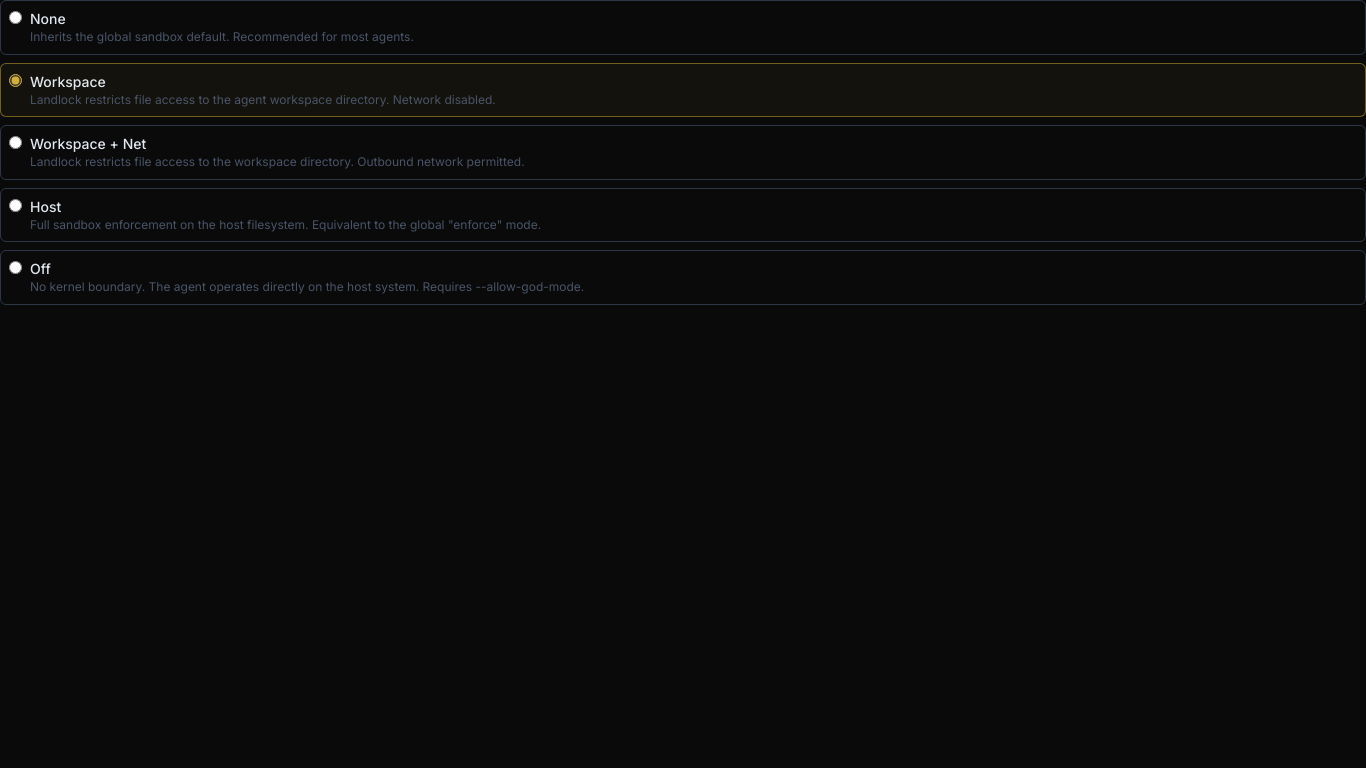
SandboxProfileSelector › cancel restores previously-selected radio state
The image size is (1366, 768).
Note: Open the confirmation dialog by clicking "off".
Click the radio button with aria-label "Sandbox profile: Off".
click(16, 268)  # box [9,261,22,274]
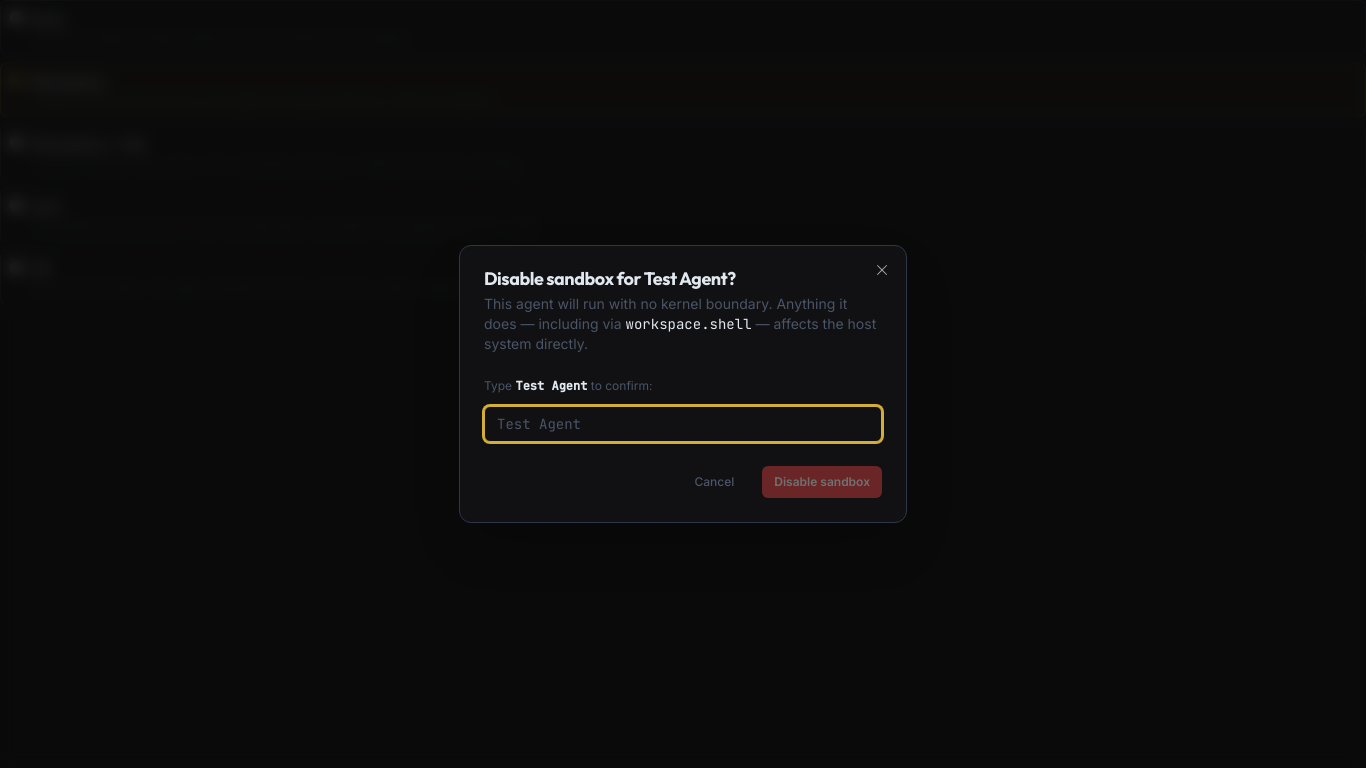
Now the heading "Disable sandbox for Test Agent?" is shown, box [484,267,736,290]
Note: Cancel the dialog.
Click the button "Cancel".
click(714, 482)  # box [682,466,746,498]
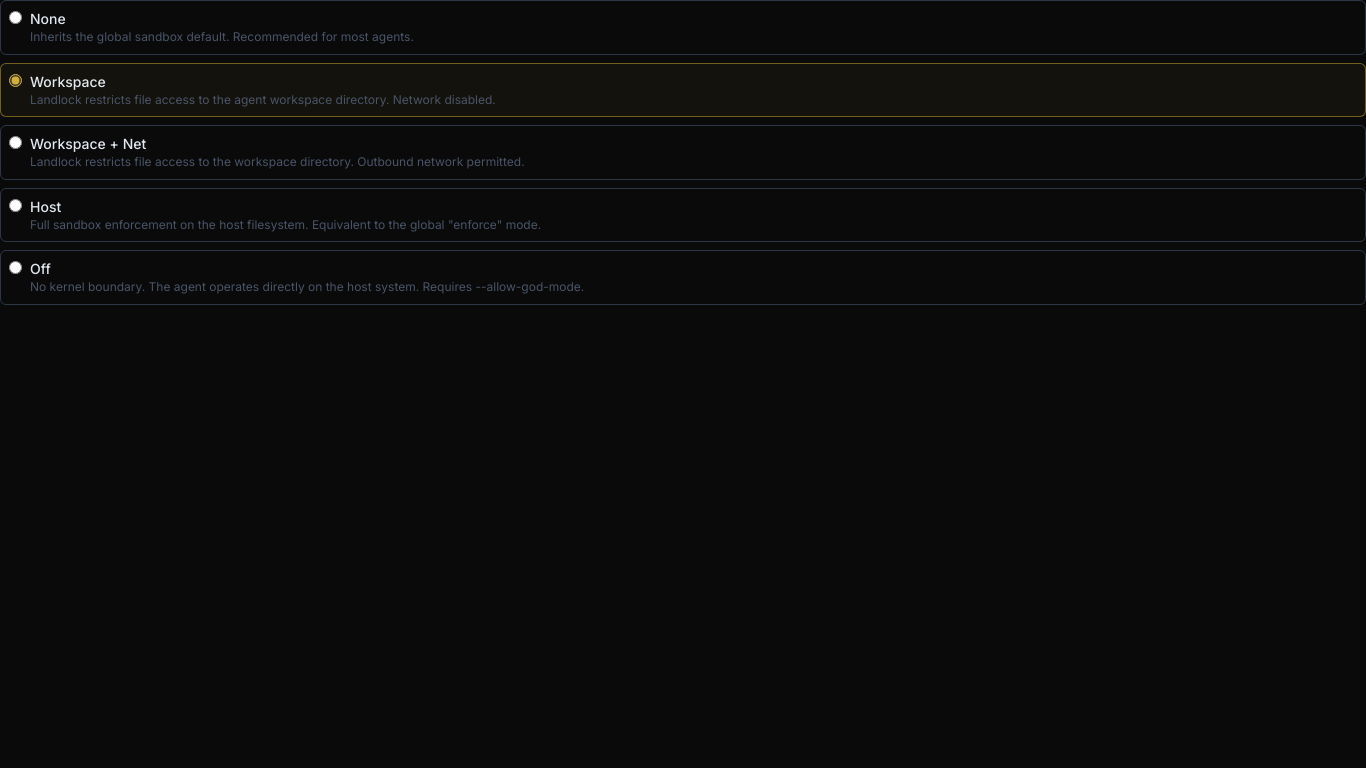
Expected: the radio button with aria-label "Sandbox profile: Workspace" is checked, [9,74,22,86]
Now the heading "Disable sandbox for Test Agent" is gone
